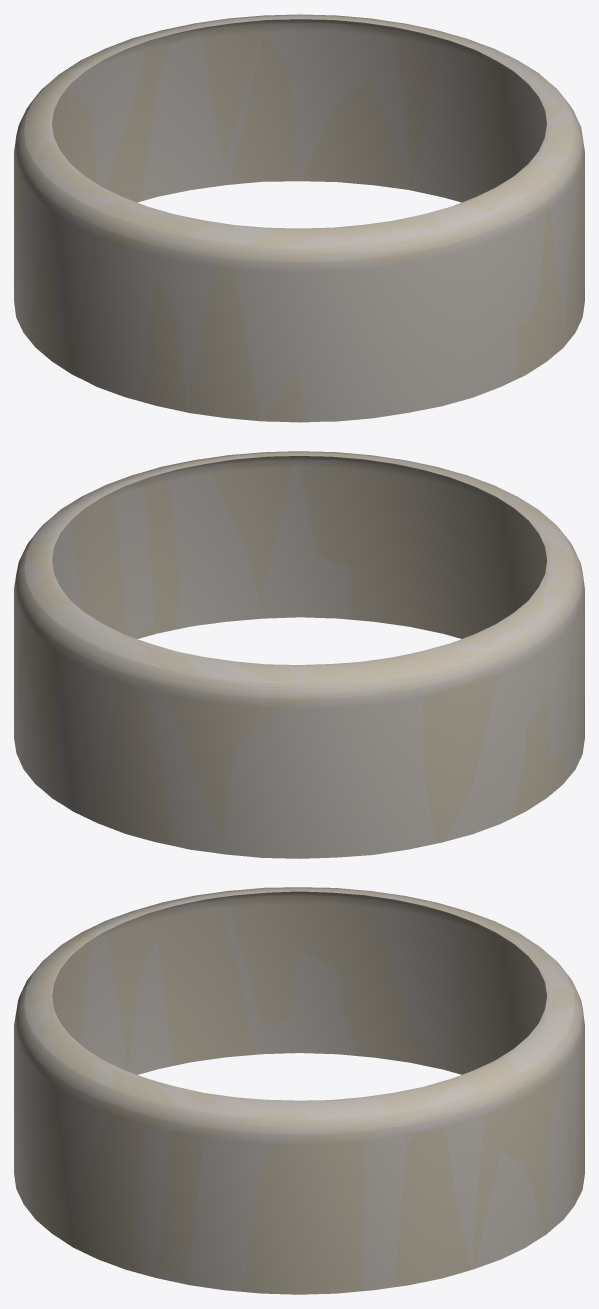
The model's file is original_13.obj.
3 renders of one model, top to bottom at view 1: azimuth 30°, elevation 25°; view 2: azimuth 150°, elevation 25°; view 3: azimuth 270°, elevation 25°, orthographic.
Visible parts, largest first — view 1: #ID314; view 2: #ID314; view 3: #ID314.
Boxes of the visible parts, x1,y1,x2,y2 form: #ID314: (14, 14, 584, 422); #ID314: (14, 451, 584, 858); #ID314: (14, 887, 584, 1294).
Size of the model in its own units: 0.3 by 0.1033 by 0.2999.
2 materials, 1 textured.
